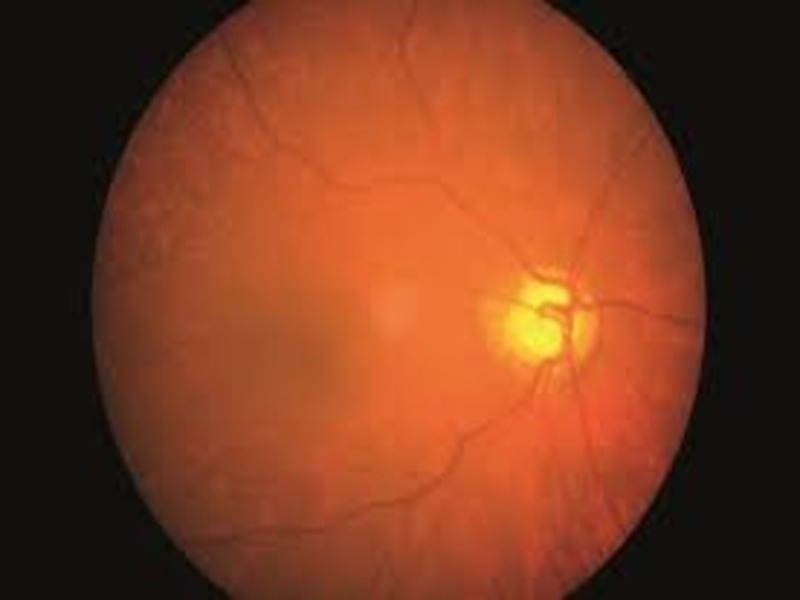Optic Cup: (505, 276, 571, 360)
Optic Disc: (485, 258, 601, 381)
